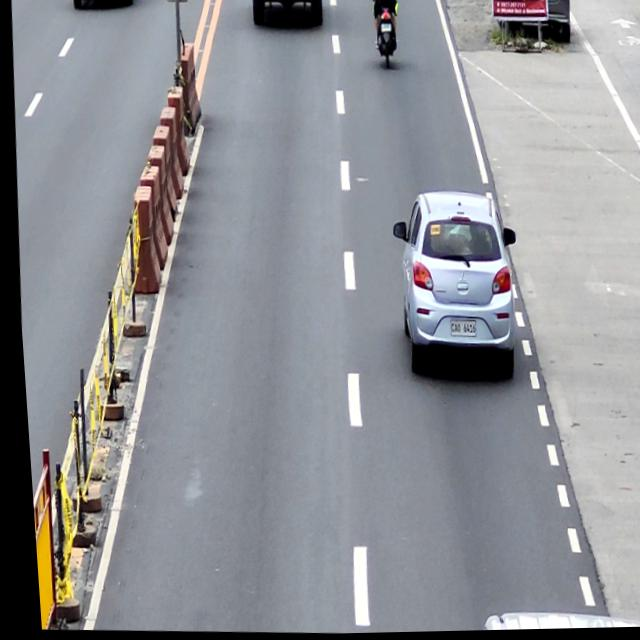Car: (382, 192, 522, 385)
License-Plate: (444, 320, 472, 339), (380, 24, 391, 34)
Motorcycle: (370, 0, 399, 68)
